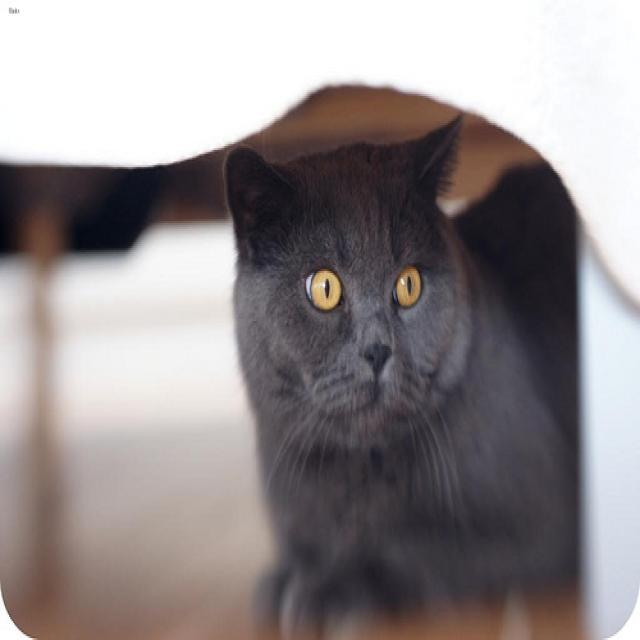British_Shorthair: (221, 112, 461, 433)
